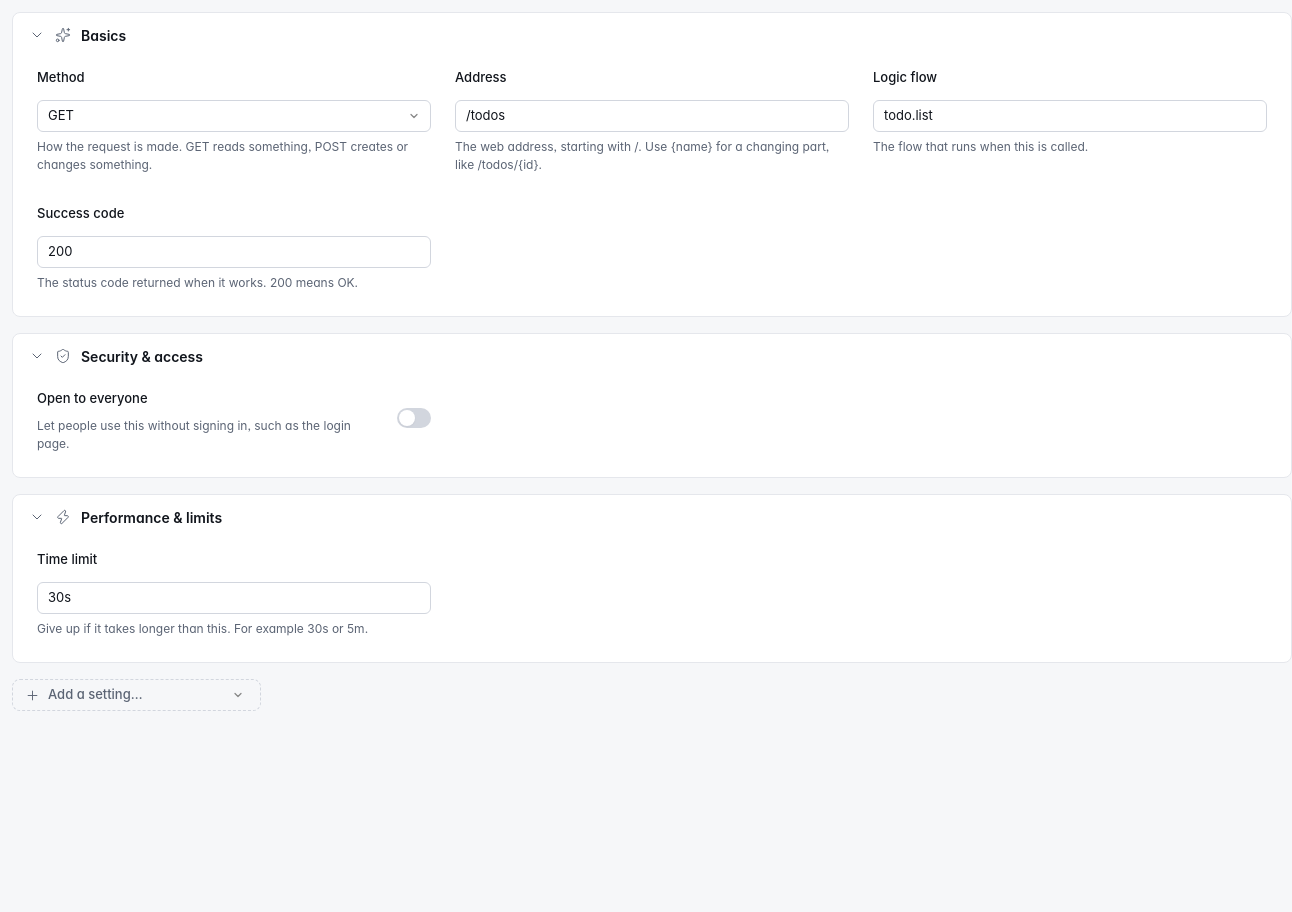
Test case: scalar widgets › duration: accepts 30m style and rejects a bare number
The image size is (1292, 912).
Replace the text in the field labelled "Time limit" with "1h30m": (234, 598) [37,582,431,614]
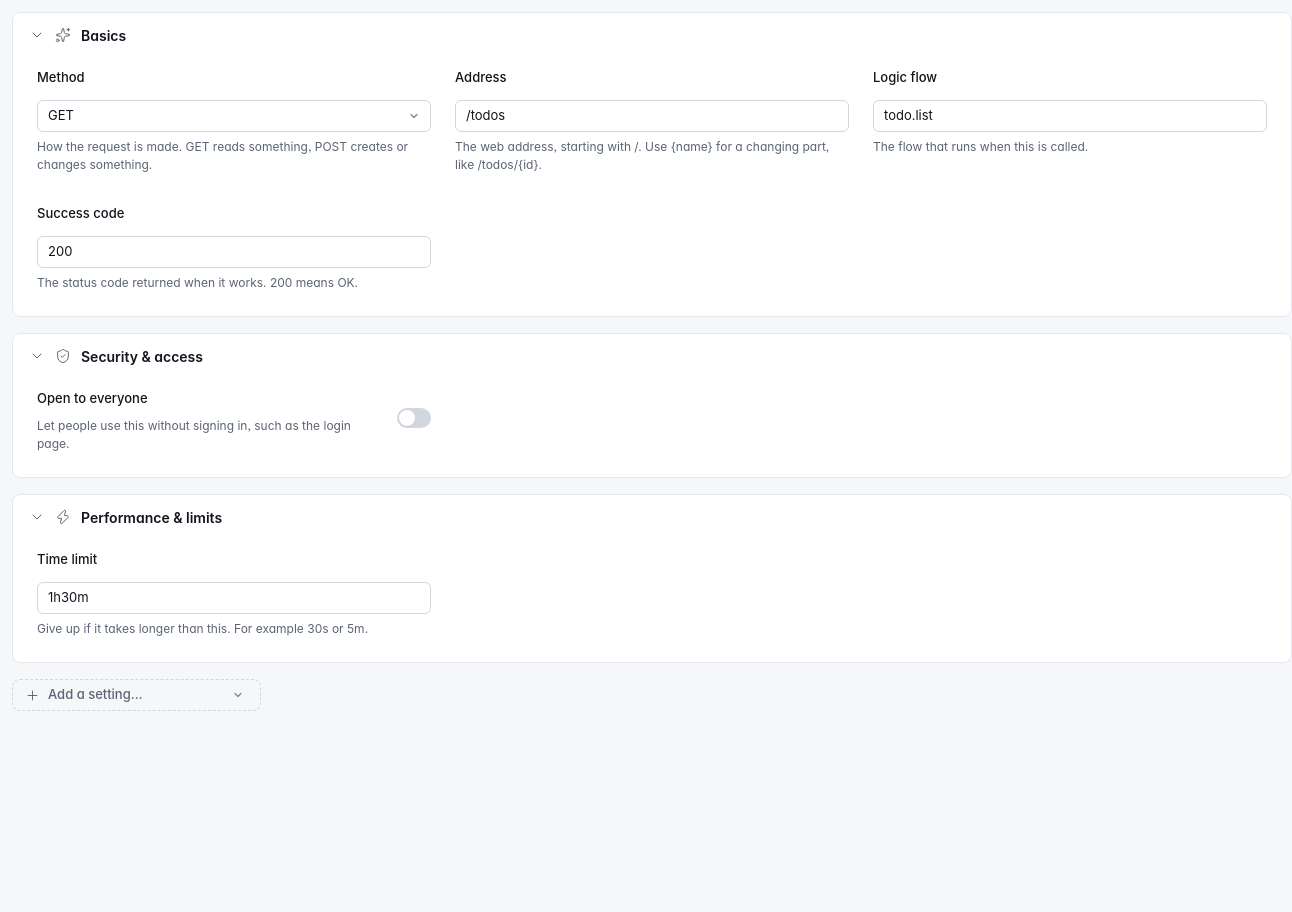
Replace the text in the field labelled "Time limit" with "90": (234, 598) [37,582,431,614]
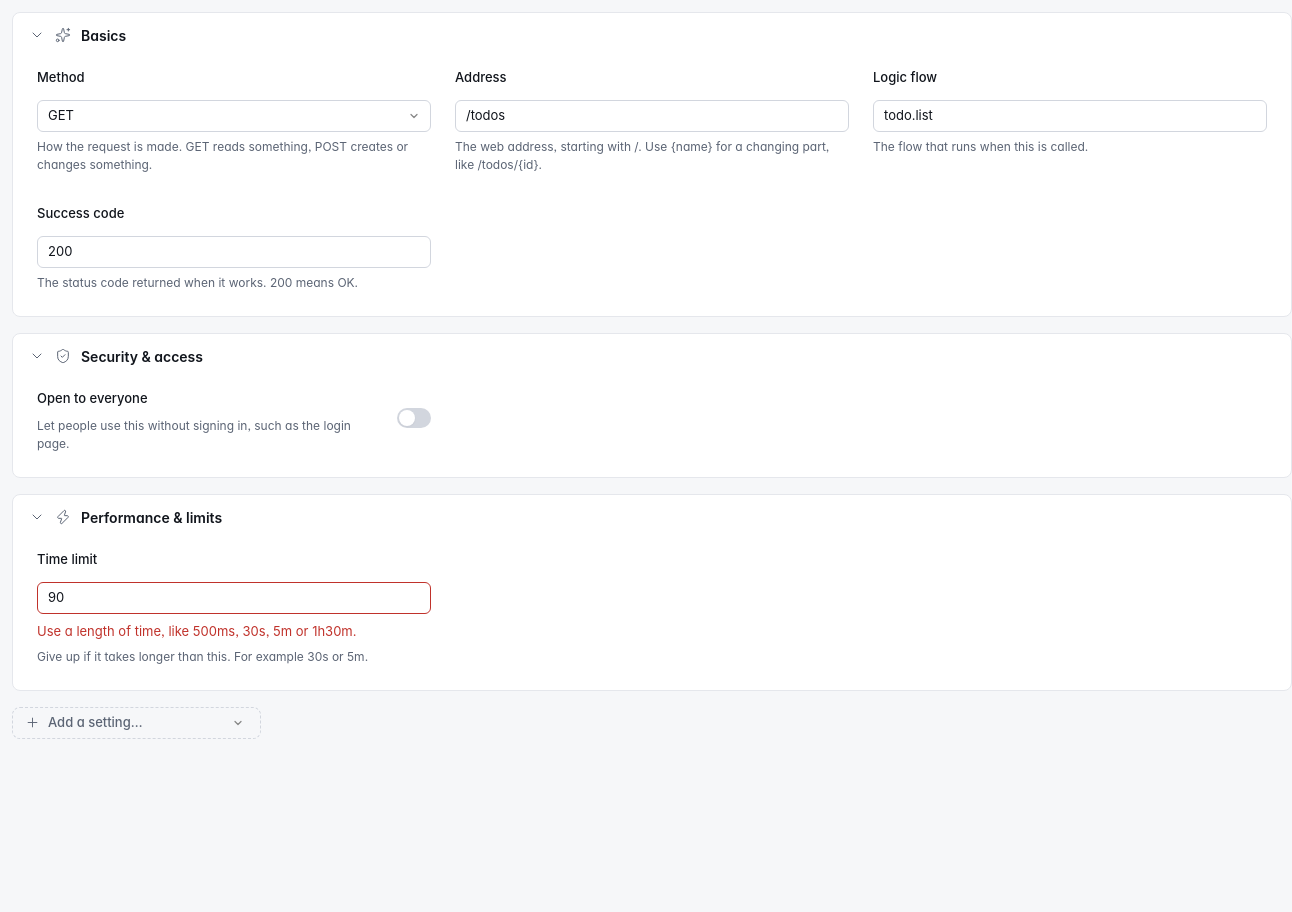
expect the message shows "length of time": met, box [37,623,356,639]
